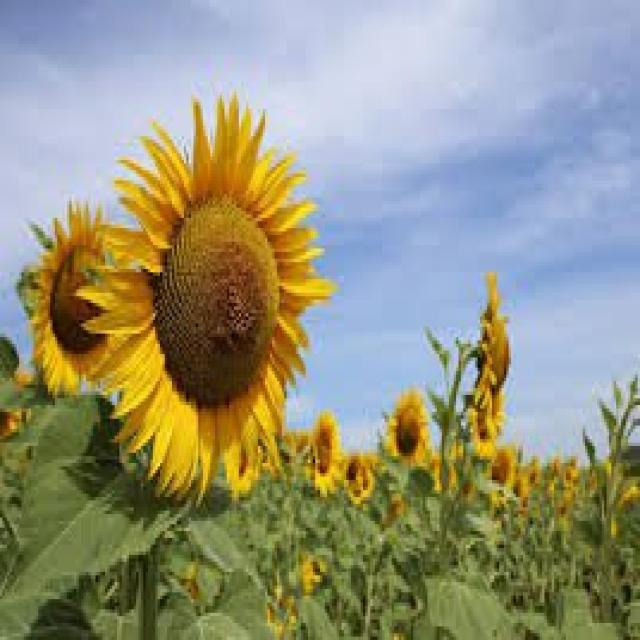sunflower: (74, 82, 339, 510), (18, 196, 118, 410), (472, 269, 514, 405), (384, 385, 434, 466), (306, 402, 342, 500)
